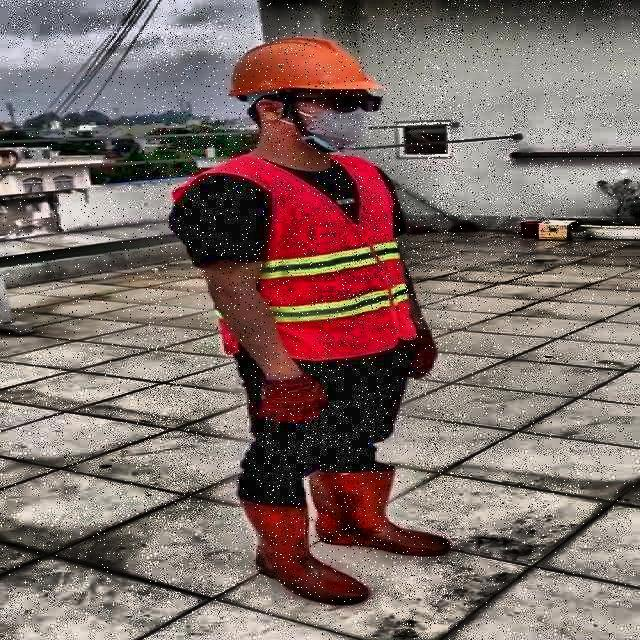safety_helmet: (220, 34, 379, 96)
safety_jacket: (156, 158, 414, 357)
